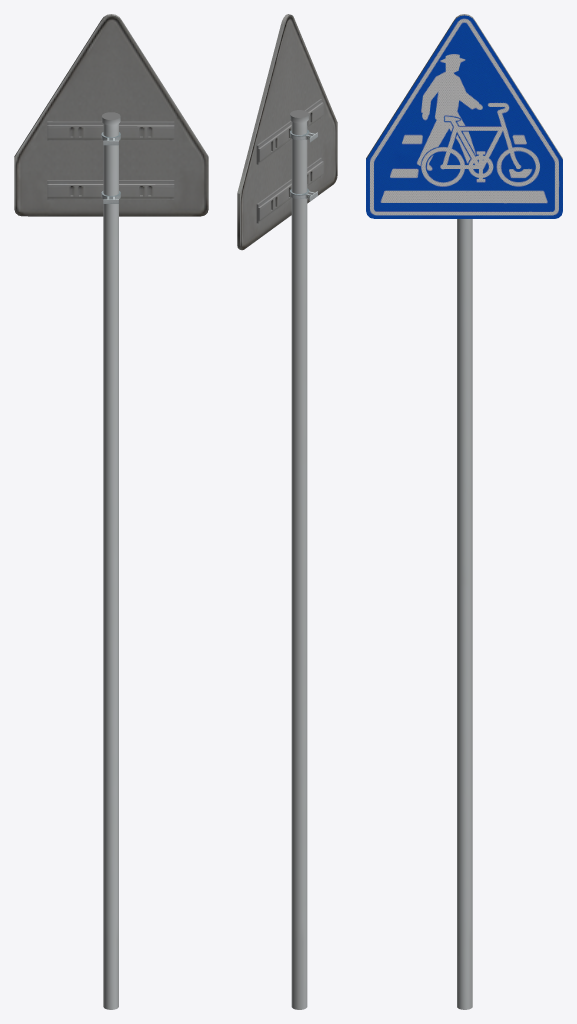
Rendered from Preset_Sign407n3.fbx.
3 renders of one model, left to right at view 1: azimuth 90°, elevation 25°; view 2: azimuth 150°, elevation 25°; view 3: azimuth 270°, elevation 25°, orthographic.
Visible parts, largest first — view 1: Sign_Backface, Sign_PoleV, Sign_BackArm; view 2: Sign_PoleV, Sign_Backface, Sign_BackArm; view 3: Sign_407n3, Sign_PoleV, Sign_Backface.
Boxes of the visible parts, box(x1,y1,x2,y2) form: Sign_Backface: box(14, 14, 208, 216); Sign_PoleV: box(101, 112, 120, 1009); Sign_BackArm: box(47, 121, 174, 203); Sign_PoleV: box(290, 110, 308, 1009); Sign_Backface: box(237, 14, 337, 250); Sign_BackArm: box(256, 99, 323, 223); Sign_407n3: box(366, 15, 562, 218); Sign_PoleV: box(457, 219, 472, 1009); Sign_Backface: box(366, 14, 562, 159).
Bounding box in the file's own units: 10.06 × 60.01 × 336.
Materials: 4 (4 with a texture image).
